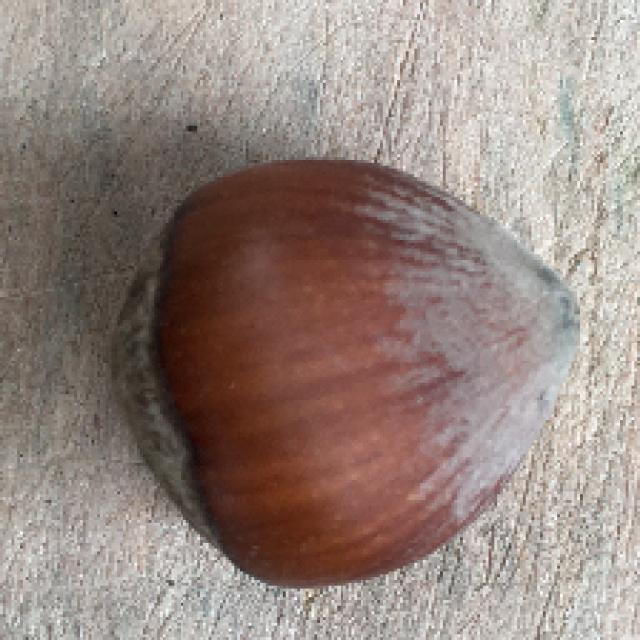qualityHazelnut: (88, 150, 582, 589)
